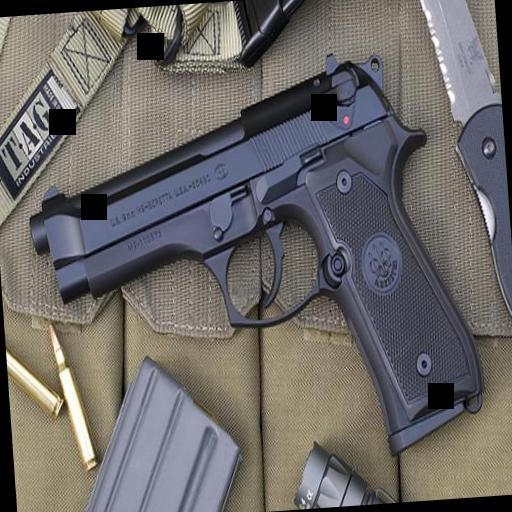Handgun: (18, 42, 484, 474)
